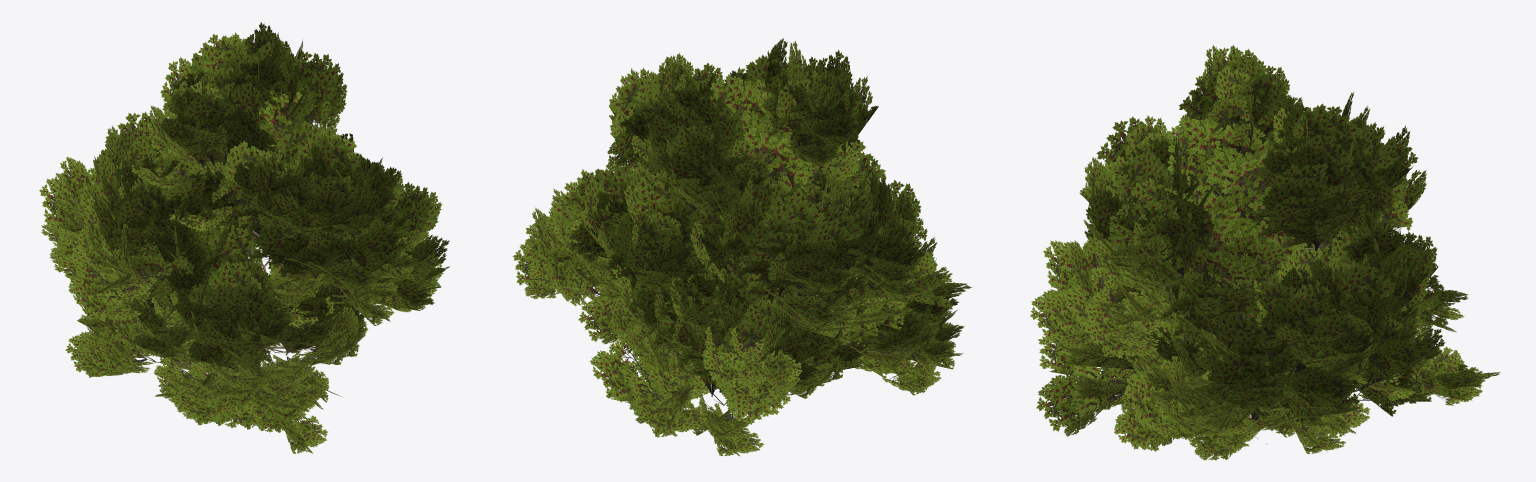
File: raspberry_shrub.glb
3 renders of one model, left to right at view 1: azimuth 30°, elevation 25°; view 2: azimuth 150°, elevation 25°; view 3: azimuth 270°, elevation 25°, orthographic. The views are drawn at different scales.
Visible parts, largest first — view 1: Object_19; view 2: Object_19; view 3: Object_19.
Boxes of the visible parts, <box> form: Object_19: <box>39,22,450,453</box>; Object_19: <box>512,38,971,455</box>; Object_19: <box>1030,45,1500,460</box>.
Size of the model in its own units: 5.44 by 4.54 by 5.16.
2 materials, 2 textured.
